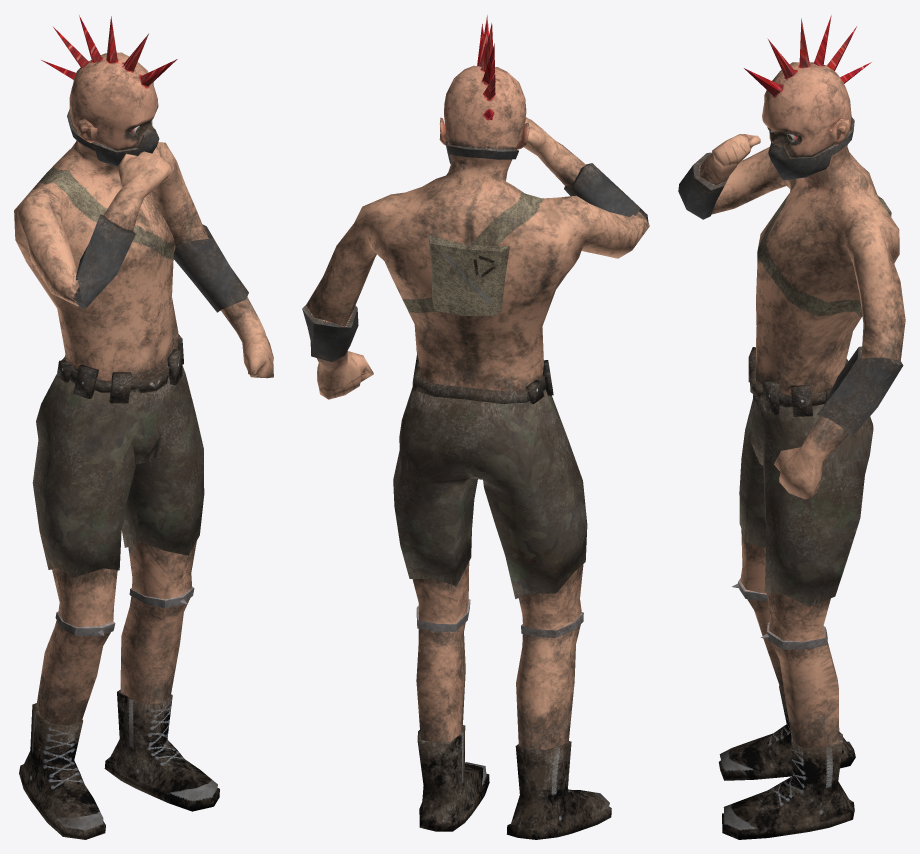
File: Anim_perder_1_npc2.0029.obj
3 views of the same model, side by side, from view 1: azimuth 30°, elevation 25°; view 2: azimuth 150°, elevation 25°; view 3: azimuth 270°, elevation 25° (orthographic). The views are drawn at different scales.
Visible parts, largest first — view 1: polySurface1; view 2: polySurface1; view 3: polySurface1.
Boxes of the visible parts, bbox=[...] form: polySurface1: bbox=[14, 15, 273, 839]; polySurface1: bbox=[302, 15, 649, 839]; polySurface1: bbox=[678, 15, 905, 839].
Size of the model in its own units: 3.65 by 10.13 by 2.66.
